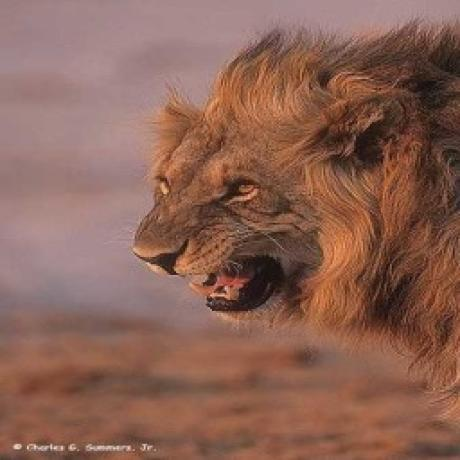Lion: (130, 21, 460, 401)
